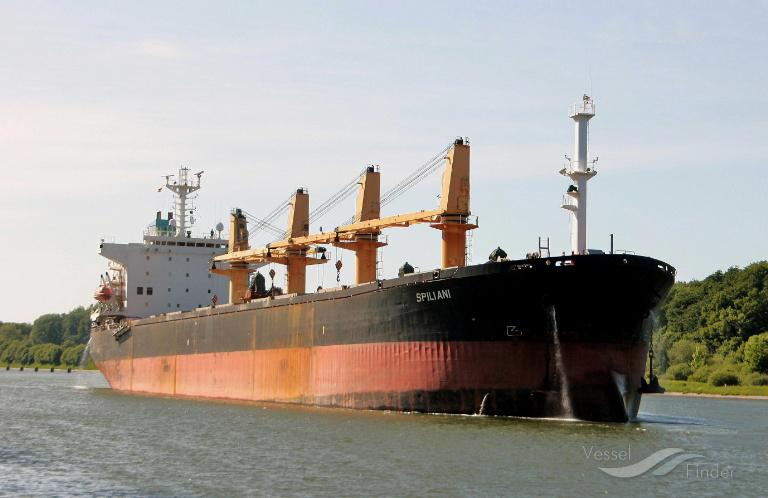OCR: (412, 285, 460, 312)
